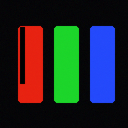4 line_v: (20, 27, 24, 83)
